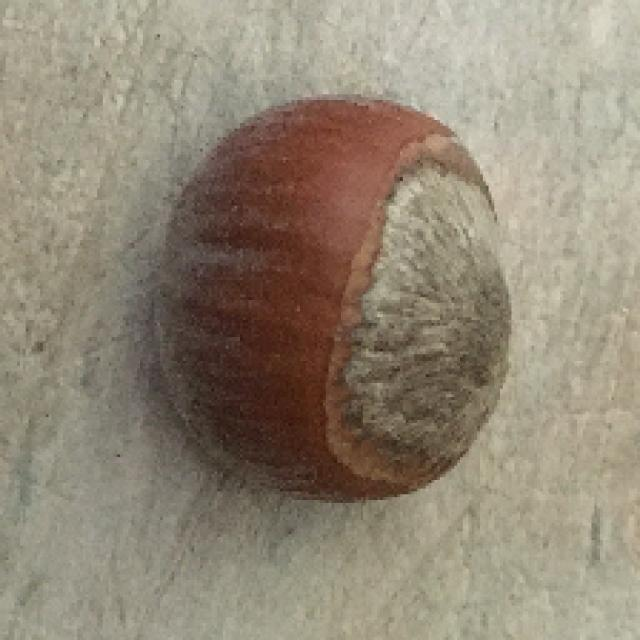QualityHazelnut: (147, 95, 517, 507)
